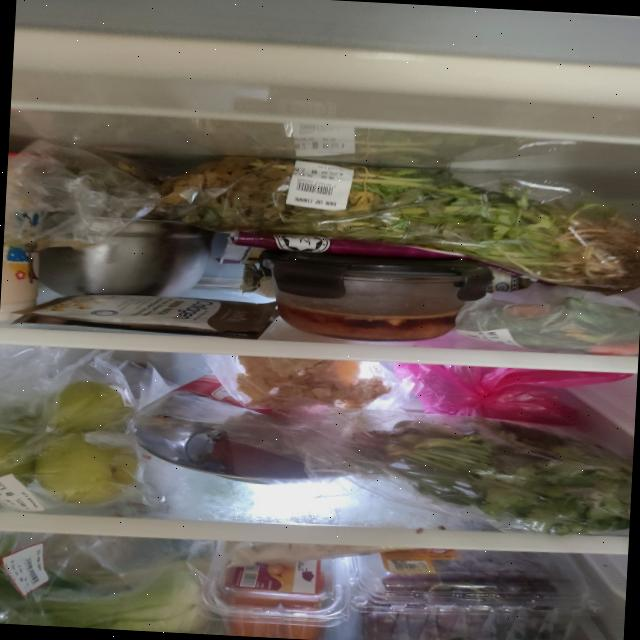apple: (0, 376, 143, 509)
grape: (357, 545, 572, 640)
leafy_greens: (155, 150, 640, 292), (344, 414, 634, 540), (0, 553, 214, 634)
unknown_bag: (391, 362, 635, 429)
